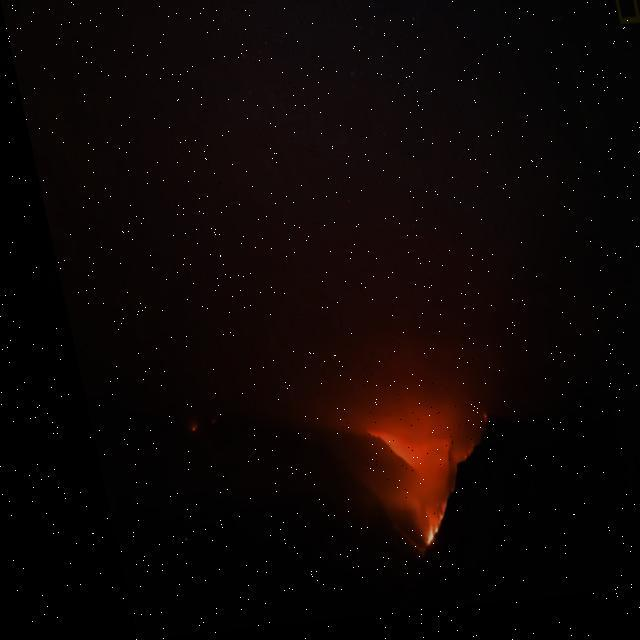Fire: (393, 508, 431, 556), (171, 422, 178, 436)
